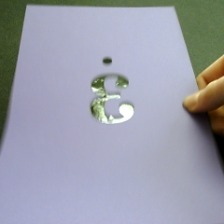violet3: (79, 53, 138, 131)
